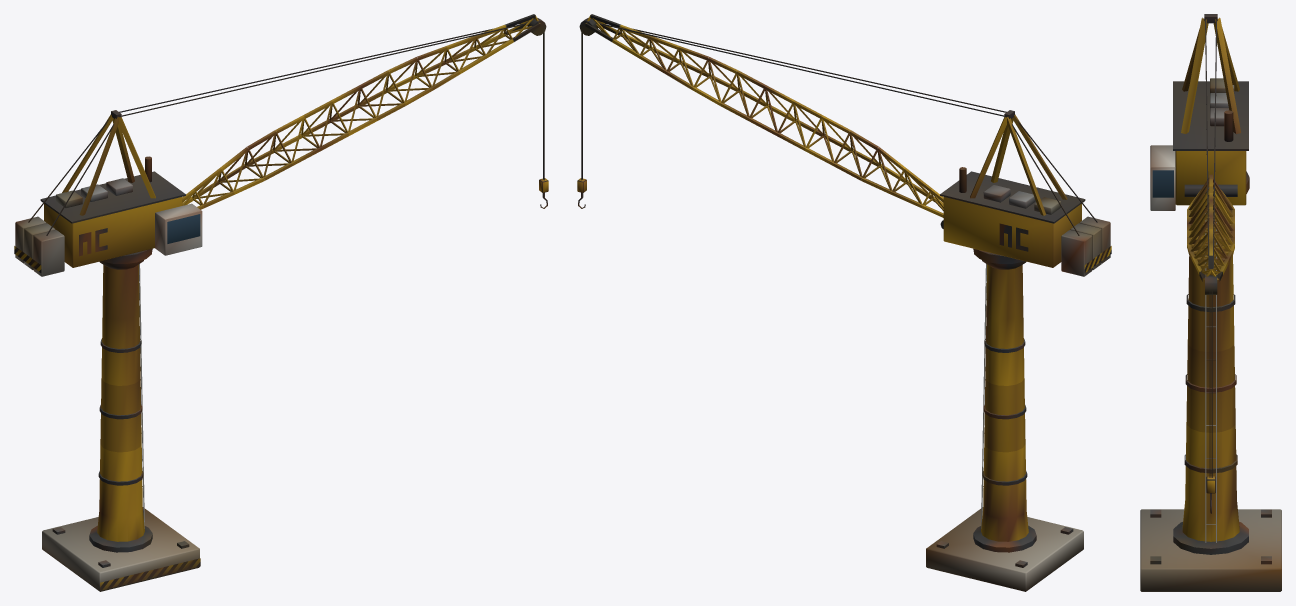
The model's file is crane_arm.glb.
3 views of the same model, side by side, from view 1: azimuth 30°, elevation 25°; view 2: azimuth 150°, elevation 25°; view 3: azimuth 270°, elevation 25° (orthographic). The views are drawn at different scales.
Visible parts, largest first — view 1: CraneArm; view 2: CraneArm; view 3: CraneArm.
Part boxes in pixels (x1=…): CraneArm: x1=14, y1=14, x2=548, y2=591; CraneArm: x1=577, y1=14, x2=1111, y2=591; CraneArm: x1=1140, y1=14, x2=1281, y2=591.
Size of the model in its own units: 33.03 by 27.16 by 6.41.
